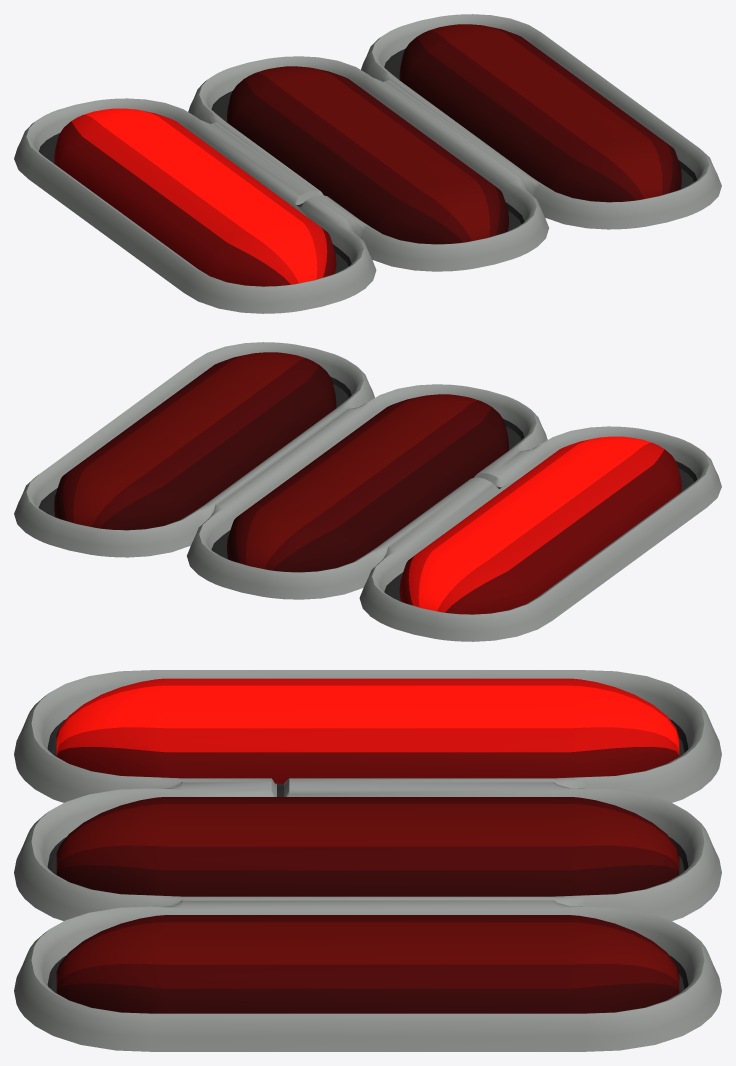
File: panel_pills_199.glb
3 views of the same model, one above another, from view 1: azimuth 30°, elevation 25°; view 2: azimuth 150°, elevation 25°; view 3: azimuth 270°, elevation 25° (orthographic). The views are drawn at different scales.
Parts seen in each view (by area): view 1: glass2, glass1, glass0, rim0, rim1, rim2; view 2: glass2, glass1, glass0, rim0, rim1, rim2; view 3: glass0, glass1, glass2, rim2, rim1, rim0.
Part boxes in pixels (box(x1,y1,x2,y2)): glass2: box(399, 24, 681, 202); glass1: box(227, 66, 508, 244); glass0: box(54, 108, 336, 286); rim0: box(14, 98, 376, 313); rim1: box(188, 56, 548, 271); rim2: box(361, 14, 721, 229); glass2: box(54, 352, 336, 530); glass1: box(227, 394, 508, 572); glass0: box(399, 436, 681, 614); rim0: box(359, 426, 721, 641); rim1: box(187, 384, 547, 599); rim2: box(14, 342, 374, 557); glass0: box(56, 678, 679, 783); glass1: box(56, 797, 679, 896); glass2: box(56, 915, 679, 1013); rim2: box(14, 900, 721, 1051); rim1: box(14, 782, 721, 920); rim0: box(14, 670, 721, 802).
Size of the model in its own units: 24.24 by 1.8 by 20.24.
